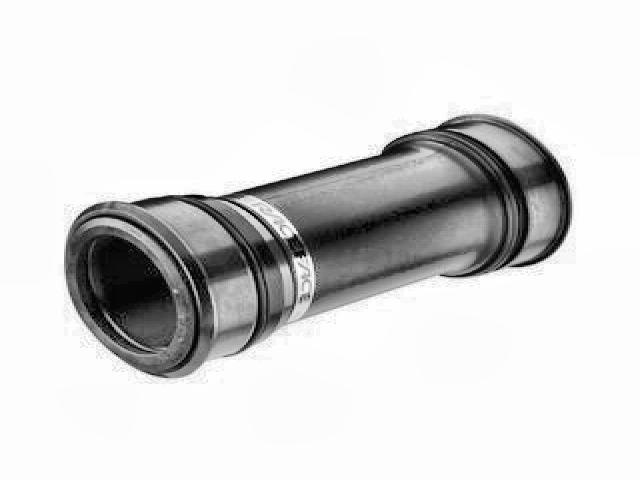bottom_bracket: (61, 111, 576, 379)
